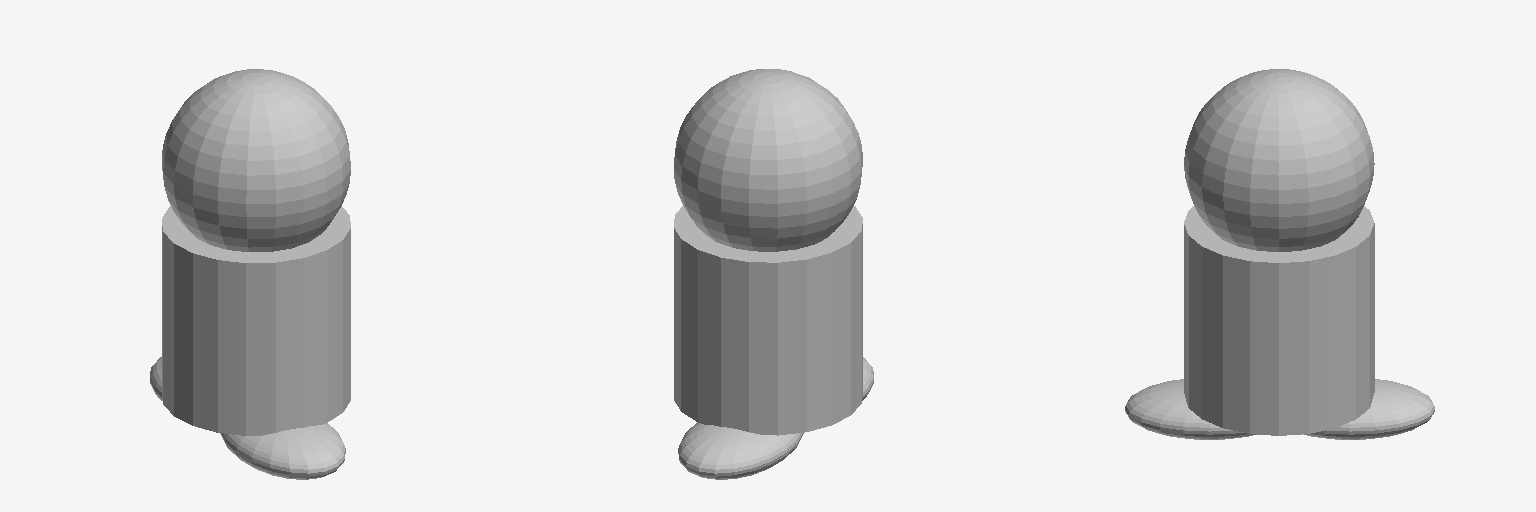
The model's file is sans.obj.
3 renders of one model, left to right at view 1: azimuth 30°, elevation 25°; view 2: azimuth 150°, elevation 25°; view 3: azimuth 270°, elevation 25°, orthographic.
Visible parts, largest first — view 1: pCylinder1, pSphere1, pSphere4; view 2: pCylinder1, pSphere1, pSphere3; view 3: pCylinder1, pSphere1, pSphere3, pSphere4.
Part boxes in pixels (x1,y1,x2,y2): pCylinder1: (162, 206, 350, 435); pSphere1: (162, 69, 350, 251); pSphere4: (220, 423, 345, 479); pCylinder1: (674, 206, 862, 435); pSphere1: (674, 69, 862, 251); pSphere3: (678, 422, 803, 479); pCylinder1: (1184, 206, 1374, 435); pSphere1: (1184, 69, 1374, 251); pSphere3: (1303, 379, 1434, 439); pSphere4: (1125, 379, 1255, 439).
Bounding box in the file's own units: 2 × 4.13 × 3.26.